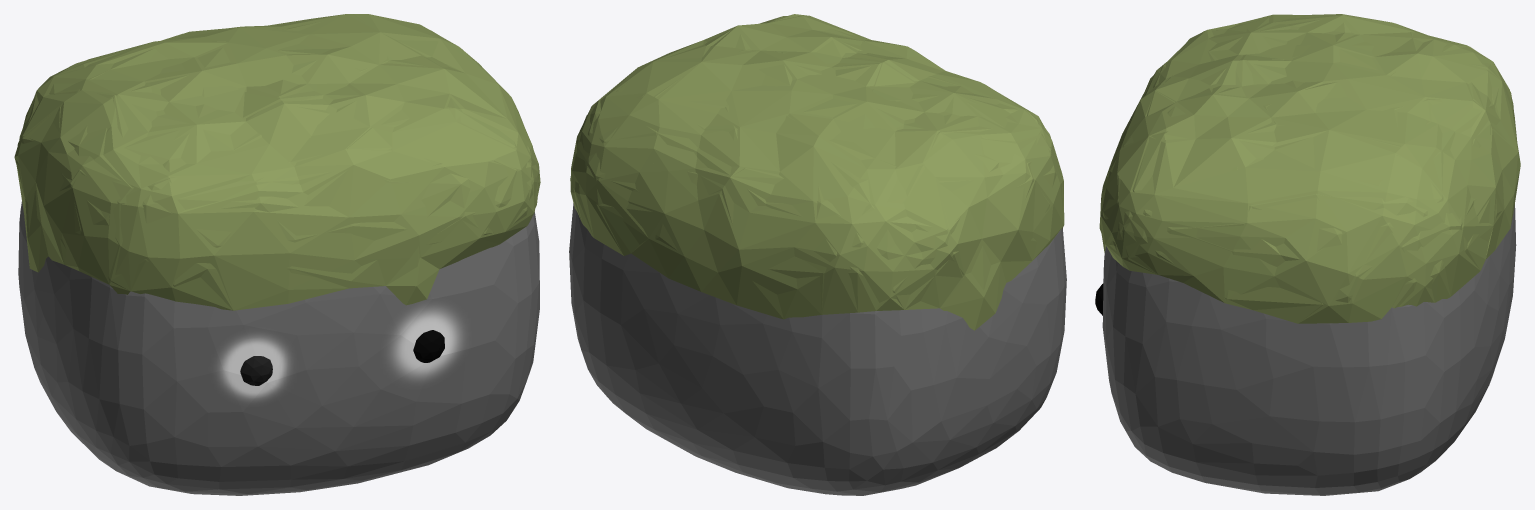
The model's file is Pedra_animada.fbx.
The picture shows the model from 3 angles, left to right: view 1: azimuth 30°, elevation 25°; view 2: azimuth 150°, elevation 25°; view 3: azimuth 270°, elevation 25°; orthographic projection. The views are drawn at different scales.
Visible parts, largest first — view 1: Musgo.001, Pedra_low, Sphere.003, Sphere.002; view 2: Musgo.001, Pedra_low; view 3: Musgo.001, Pedra_low.
Boxes of the visible parts, x1=… form: Musgo.001: x1=14, y1=14, x2=540, y2=310; Pedra_low: x1=18, y1=202, x2=539, y2=495; Sphere.003: x1=413, y1=330, x2=444, y2=362; Sphere.002: x1=240, y1=356, x2=272, y2=385; Musgo.001: x1=570, y1=14, x2=1064, y2=330; Pedra_low: x1=569, y1=203, x2=1066, y2=495; Musgo.001: x1=1099, y1=14, x2=1520, y2=323; Pedra_low: x1=1102, y1=204, x2=1516, y2=495.
Size of the model in its own units: 282 by 236 by 240.
4 materials, 1 textured.
